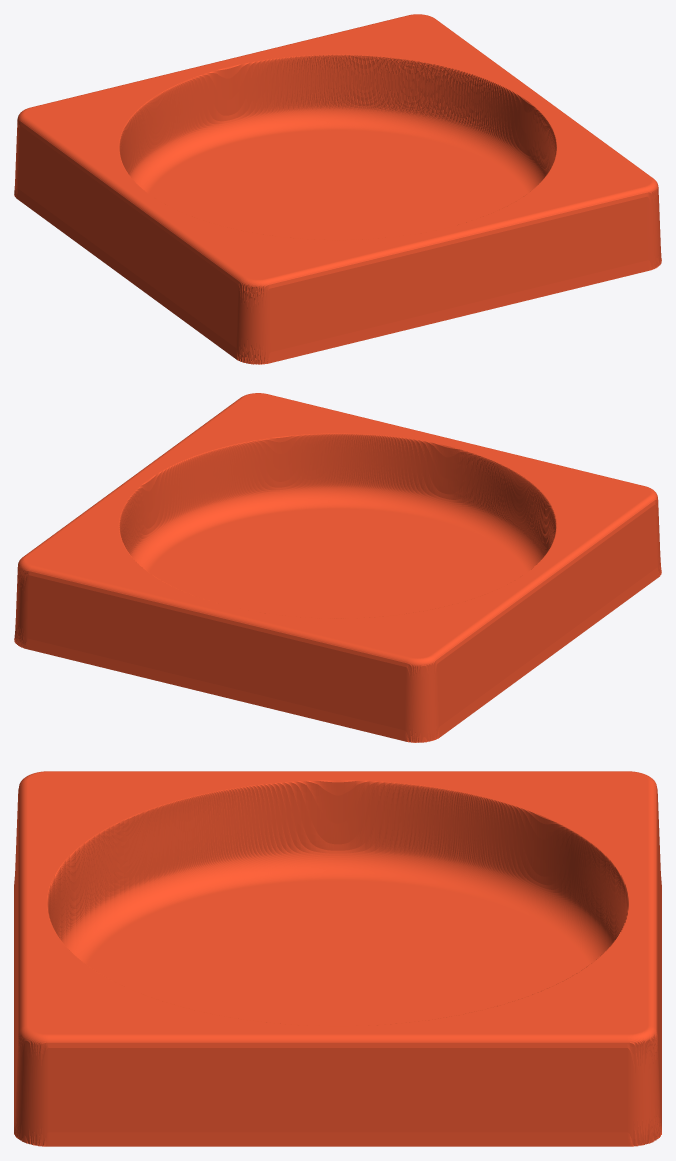
The model's file is mold.glb.
3 views of the same model, one above another, from view 1: azimuth 30°, elevation 25°; view 2: azimuth 150°, elevation 25°; view 3: azimuth 270°, elevation 25° (orthographic). The views are drawn at different scales.
Visible parts, largest first — view 1: geometry_0; view 2: geometry_0; view 3: geometry_0.
Boxes of the visible parts, box(x1,y1,x2,y2) form: geometry_0: box(14, 14, 661, 364); geometry_0: box(14, 393, 661, 742); geometry_0: box(14, 771, 661, 1146).
Size of the model in its own units: 0.1709 by 0.031 by 0.1709.
